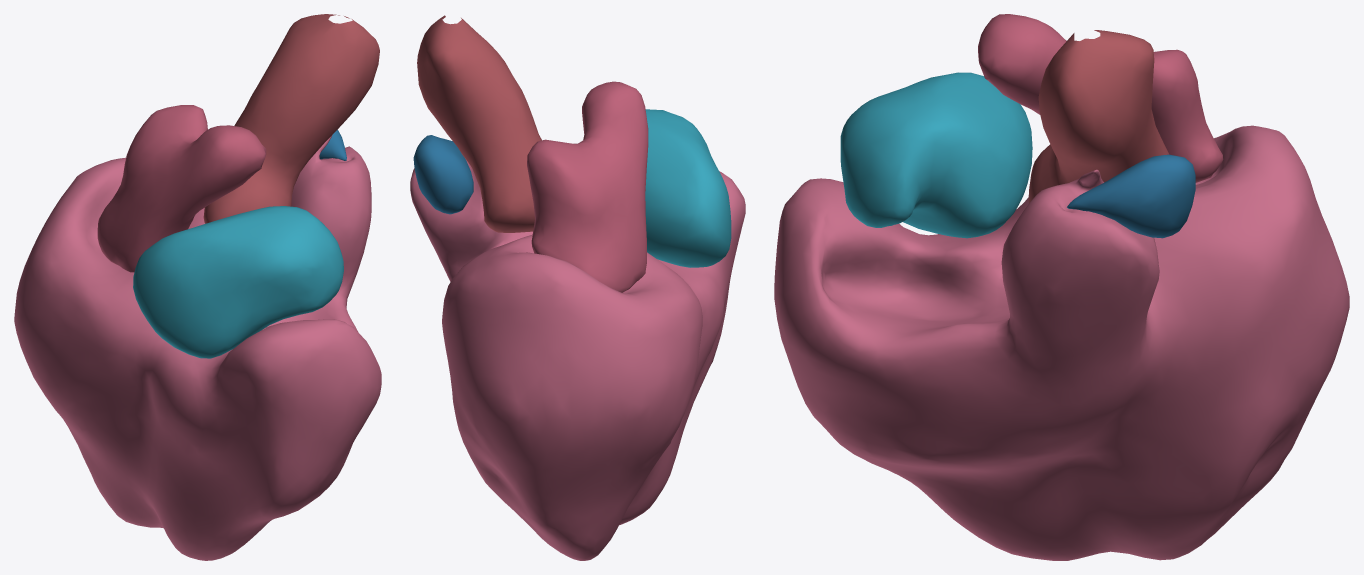
The model's file is frame_51.glb.
3 views of the same model, side by side, from view 1: azimuth 30°, elevation 25°; view 2: azimuth 150°, elevation 25°; view 3: azimuth 270°, elevation 25° (orthographic). The views are drawn at different scales.
Parts seen in each view (by area): view 1: Renderer Node; view 2: Renderer Node; view 3: Renderer Node.
Boxes of the visible parts, left/top/right/bottom form: Renderer Node: left=14, top=14, right=381, bottom=560; Renderer Node: left=410, top=15, right=745, bottom=560; Renderer Node: left=774, top=14, right=1349, bottom=560.
Size of the model in its own units: 102 by 157 by 132.
